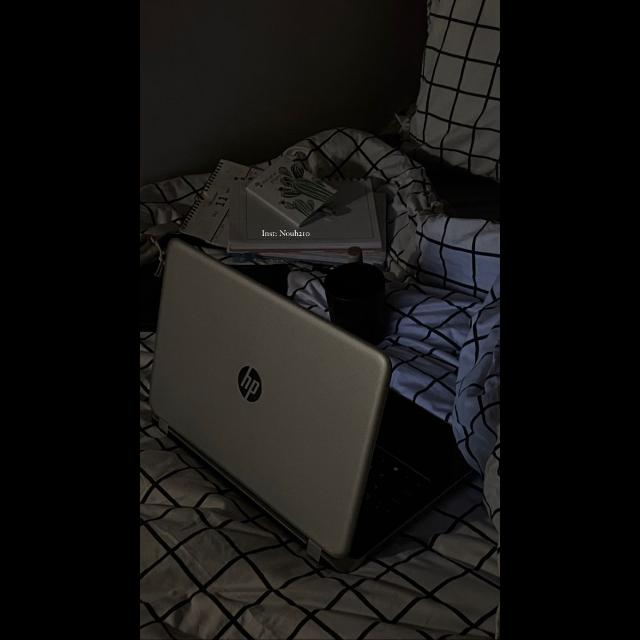laptop: (149, 239, 469, 572)
